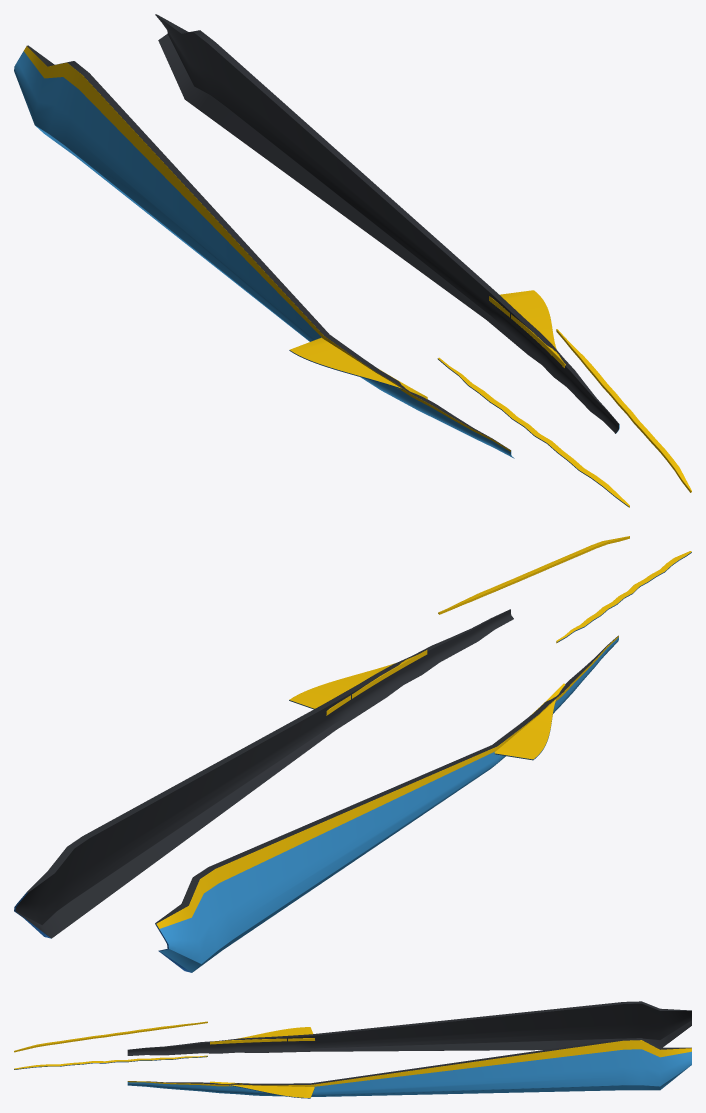
File: strix_armor_lg.fbx
The picture shows the model from 3 angles, top to bottom: view 1: azimuth 30°, elevation 25°; view 2: azimuth 150°, elevation 25°; view 3: azimuth 270°, elevation 25°; orthographic projection. The views are drawn at different scales.
Parts seen in each view (by area): view 1: Armor_Needle_lerx; view 2: Armor_Needle_lerx; view 3: Armor_Needle_lerx.
Boxes of the visible parts, left/top/right/bottom form: Armor_Needle_lerx: left=14, top=14, right=691, bottom=507; Armor_Needle_lerx: left=14, top=536, right=691, bottom=972; Armor_Needle_lerx: left=14, top=1001, right=691, bottom=1098.
Bounding box in the file's own units: 159 × 55.2 × 640.
